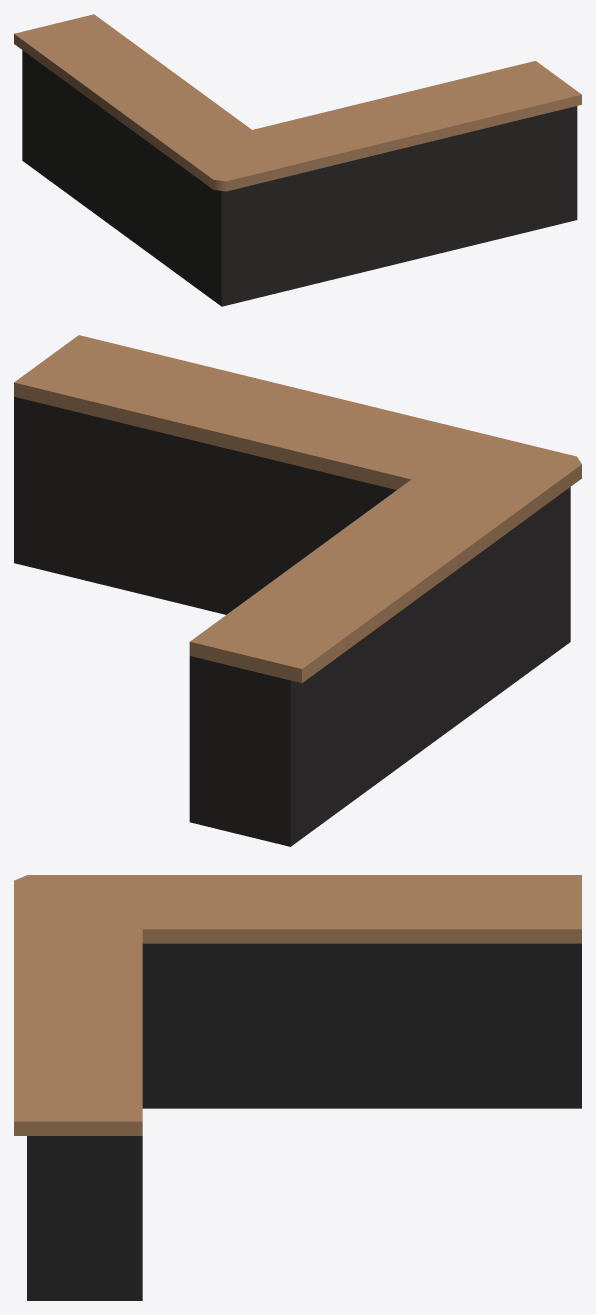
File: bar.FBX
3 renders of one model, top to bottom at view 1: azimuth 30°, elevation 25°; view 2: azimuth 150°, elevation 25°; view 3: azimuth 270°, elevation 25°, orthographic. The views are drawn at different scales.
Parts seen in each view (by area): view 1: bar; view 2: bar; view 3: bar.
Part boxes in pixels (bbox=[...]): bar: bbox=[14, 14, 581, 306]; bar: bbox=[14, 335, 581, 846]; bar: bbox=[14, 875, 581, 1300].
Bounding box in the file's own units: 320 × 109 × 312.
1 material, 1 textured.
